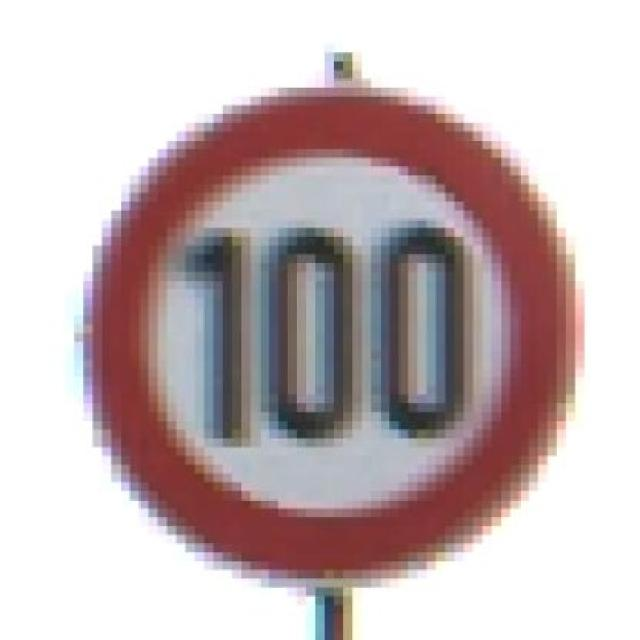forb_speed_over_100: (77, 82, 583, 587)
